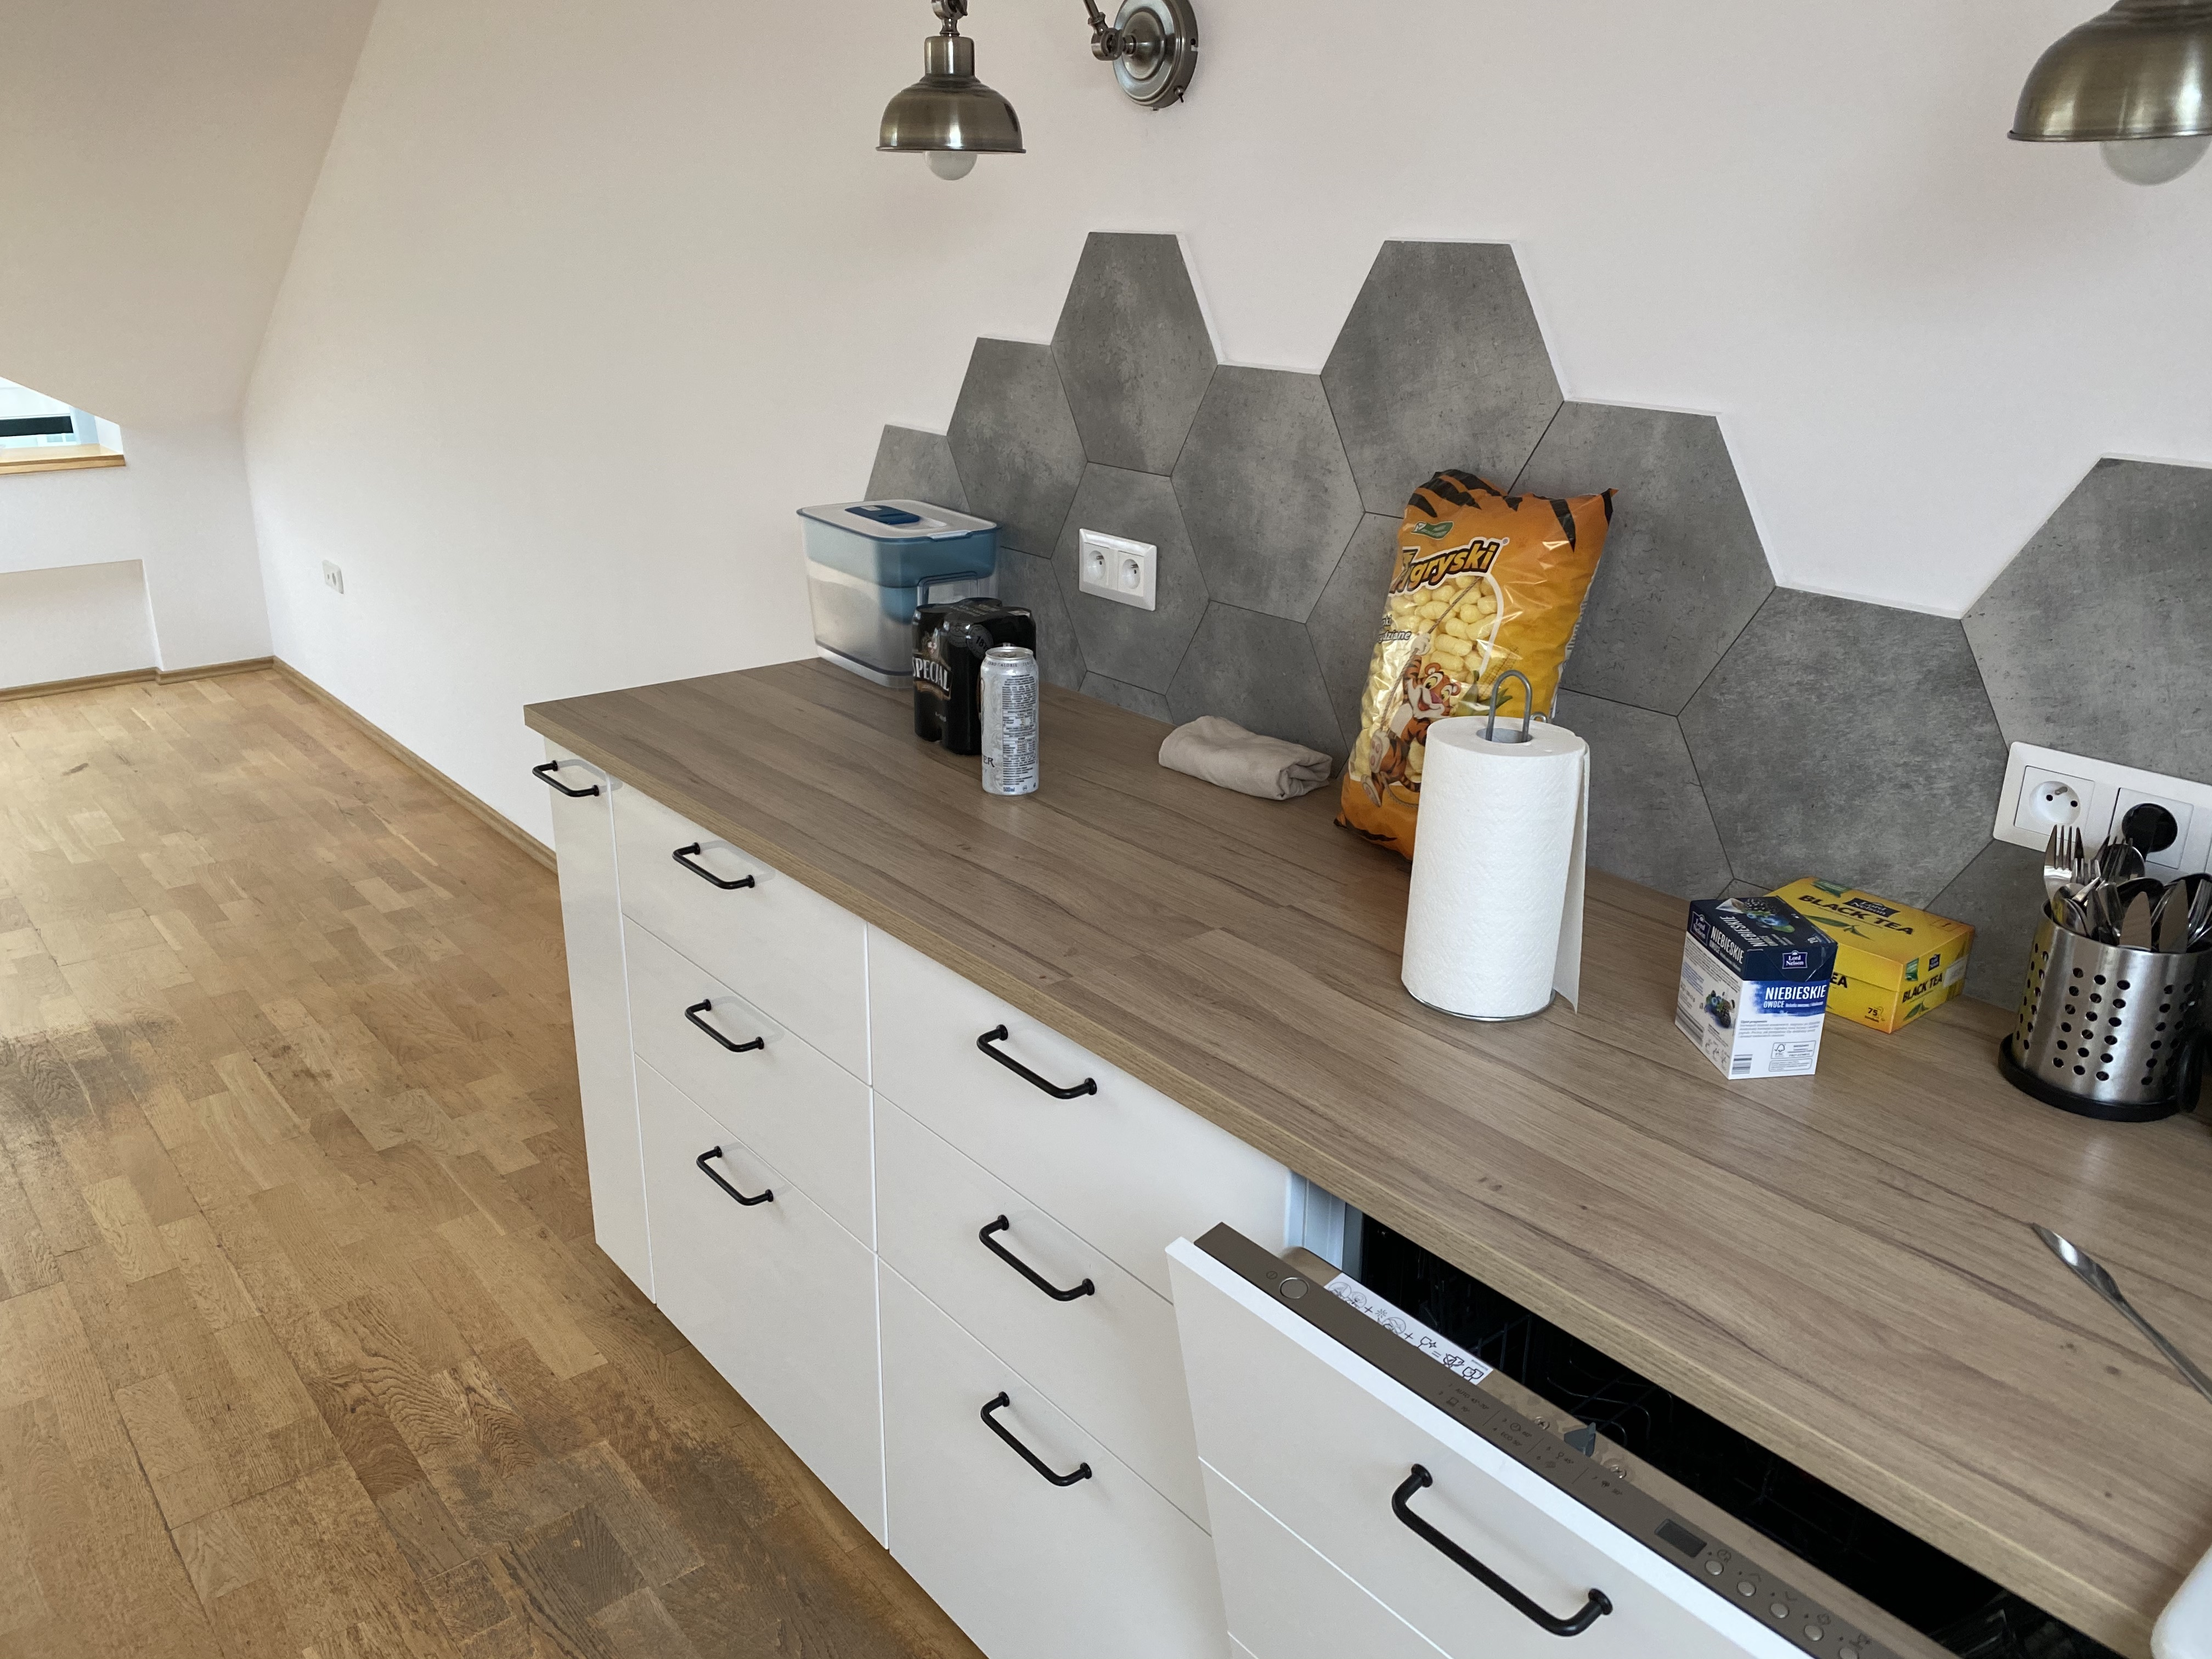specjal: (909, 598, 1045, 760)
